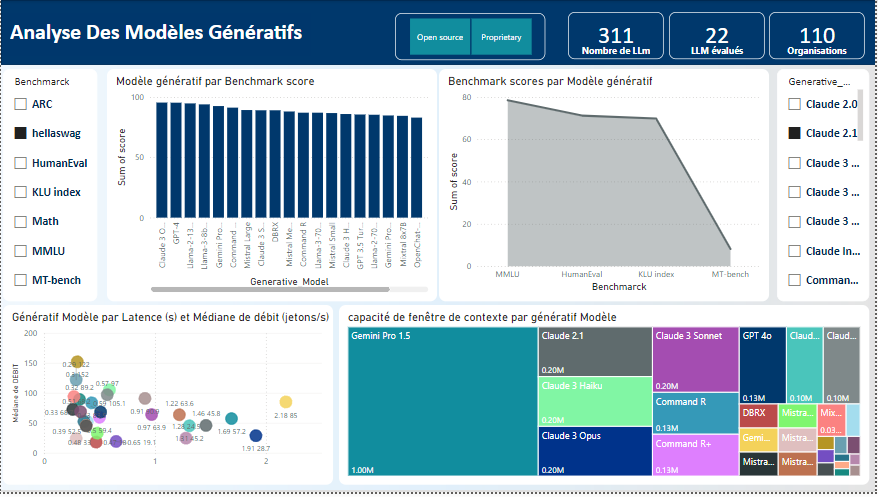

The dashboard page shown, as its layout file describes it:
{"tool":"powerbi","page":{"name":"Page 1","canvas":[1280,720],"ordinal":0},"visuals":[{"type":"shape","box":[0,0,1280.5,95.1],"z":0},{"type":"textbox","box":[0,19,453.7,62.9],"z":1000},{"type":"slicer","fields":{"Values":["Table1.Benchmarck"]},"box":[2.9,101,137.6,339.5],"z":2000},{"type":"lineClusteredColumnComboChart","title":"Modèle génératif par Benchmark score  ","fields":{"Category":["Table1.Generative_Model"],"Y":["Sum(llm evaluation.TransformedValue)"]},"box":[155.1,101,482.9,339.5],"z":3000},{"type":"card","fields":{"Values":["Count(llm pays.Model name)"]},"box":[829.8,17.6,140.5,68.8],"z":4000},{"type":"slicer","fields":{"Values":["llm evaluation.Generative_Model"]},"box":[1135.6,101,134.6,339.5],"z":6000},{"type":"scatterChart","title":"Génératif Modèle par Latence (s) et Médiane de débit (jetons/s)","fields":{"X":["llm evaluation.Latence par seconde"],"Y":["llm evaluation.Médiane de DÉBIT"],"Series":["llm evaluation.Generative_Model"]},"box":[2.9,446.3,482.9,263.4],"z":7000},{"type":"treemap","title":"capacité de fenêtre de contexte par génératif Modèle","fields":{"Group":["llm evaluation.Generative_Model"],"Values":["Avg(llm evaluation.fenêtre de contexte)"]},"box":[494.6,446.3,775.6,263.4],"z":8000},{"type":"slicer","title":"Access","fields":{"Values":["llm evaluation.Licence"]},"box":[576.6,19,219.5,68.8],"z":9000},{"type":"areaChart","title":"Benchmark scores par Modèle génératif   ","fields":{"Category":["llm evaluation.Benchmarck"],"Y":["Sum(llm evaluation.TransformedValue)"],"Series":["llm evaluation.Generative_Model"]},"box":[641,101,482.9,339.5],"z":10000},{"type":"textbox","box":[838.5,60,122.9,32.2],"z":11000},{"type":"card","fields":{"Values":["Count(llm pays.organization)"]},"box":[1123.9,17.6,140.5,68.8],"z":12000},{"type":"textbox","box":[986.3,60,122.9,32.2],"z":13000},{"type":"card","fields":{"Values":["Count(llm evaluation.Generative_Model)"]},"box":[977.6,17.6,140.5,68.8],"z":14000},{"type":"textbox","box":[1132.7,60,122.9,32.2],"z":15000}]}

Visuals, with their boxes in screenshot pixels (x1, y1, x2, y2), scaled from the page's 1280x720 canvas onto the 878x497 screenshot:
shape: bbox(0, 0, 877, 66)
textbox: bbox(0, 13, 311, 57)
slicer - Table1.Benchmarck: bbox(2, 70, 96, 304)
"Modèle génératif par Benchmark score  " lineClusteredColumnComboChart: bbox(106, 70, 438, 304)
card - Count(llm pays.Model name): bbox(569, 12, 666, 60)
slicer - llm evaluation.Generative_Model: bbox(779, 70, 871, 304)
"Génératif Modèle par Latence (s) et Médiane de débit (jetons/s)" scatterChart: bbox(2, 308, 333, 490)
"capacité de fenêtre de contexte par génératif Modèle" treemap: bbox(339, 308, 871, 490)
"Access" slicer: bbox(396, 13, 546, 61)
"Benchmark scores par Modèle génératif   " areaChart: bbox(440, 70, 771, 304)
textbox: bbox(575, 41, 659, 64)
card - Count(llm pays.organization): bbox(771, 12, 867, 60)
textbox: bbox(677, 41, 761, 64)
card - Count(llm evaluation.Generative_Model): bbox(671, 12, 767, 60)
textbox: bbox(777, 41, 861, 64)
